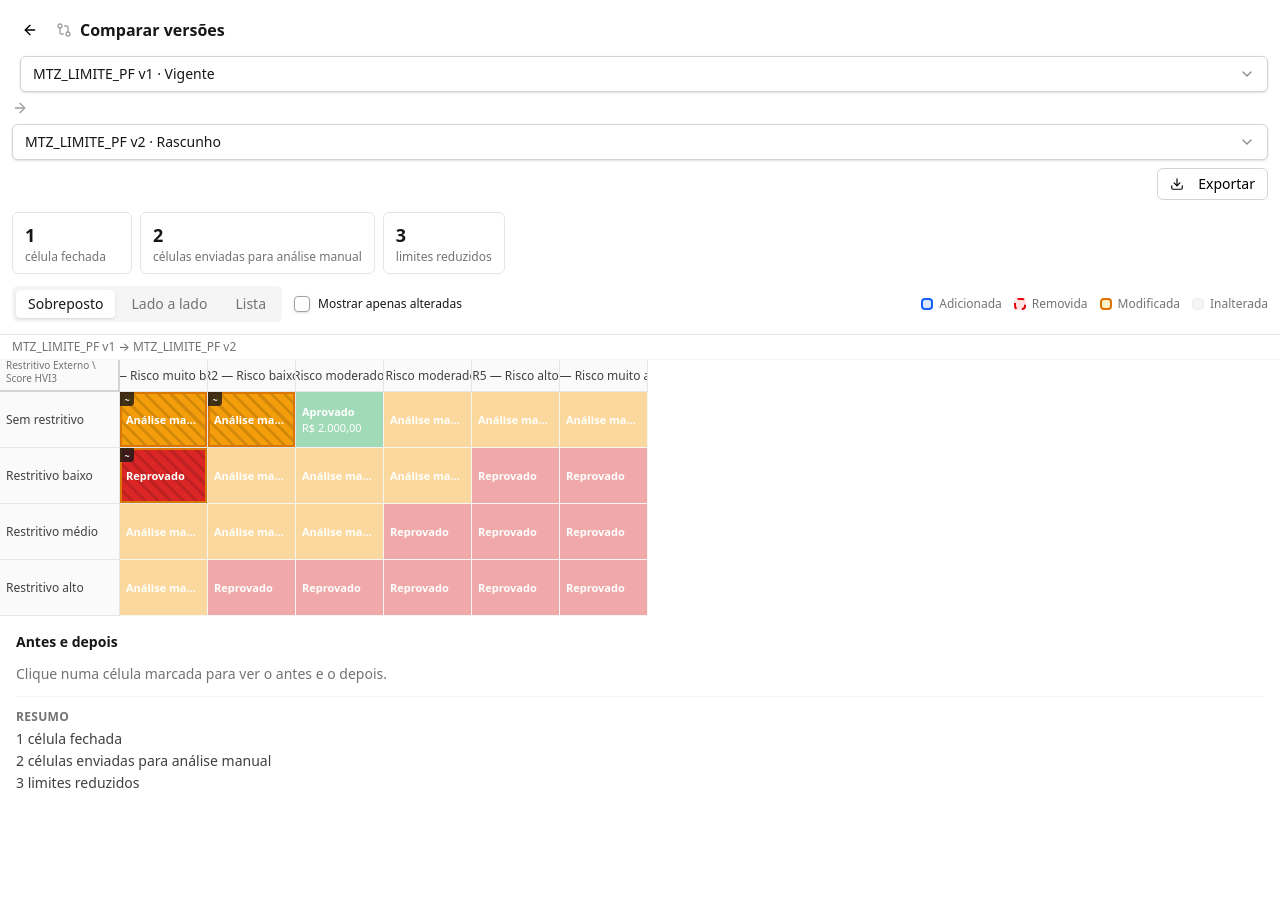
Test case: CompareScreen › modo lista traz uma linha por mudança, filtrável por tipo
This screenshot has width=1280, height=900.
Click the tab "Lista" at (251, 304), box [223,290,278,318]
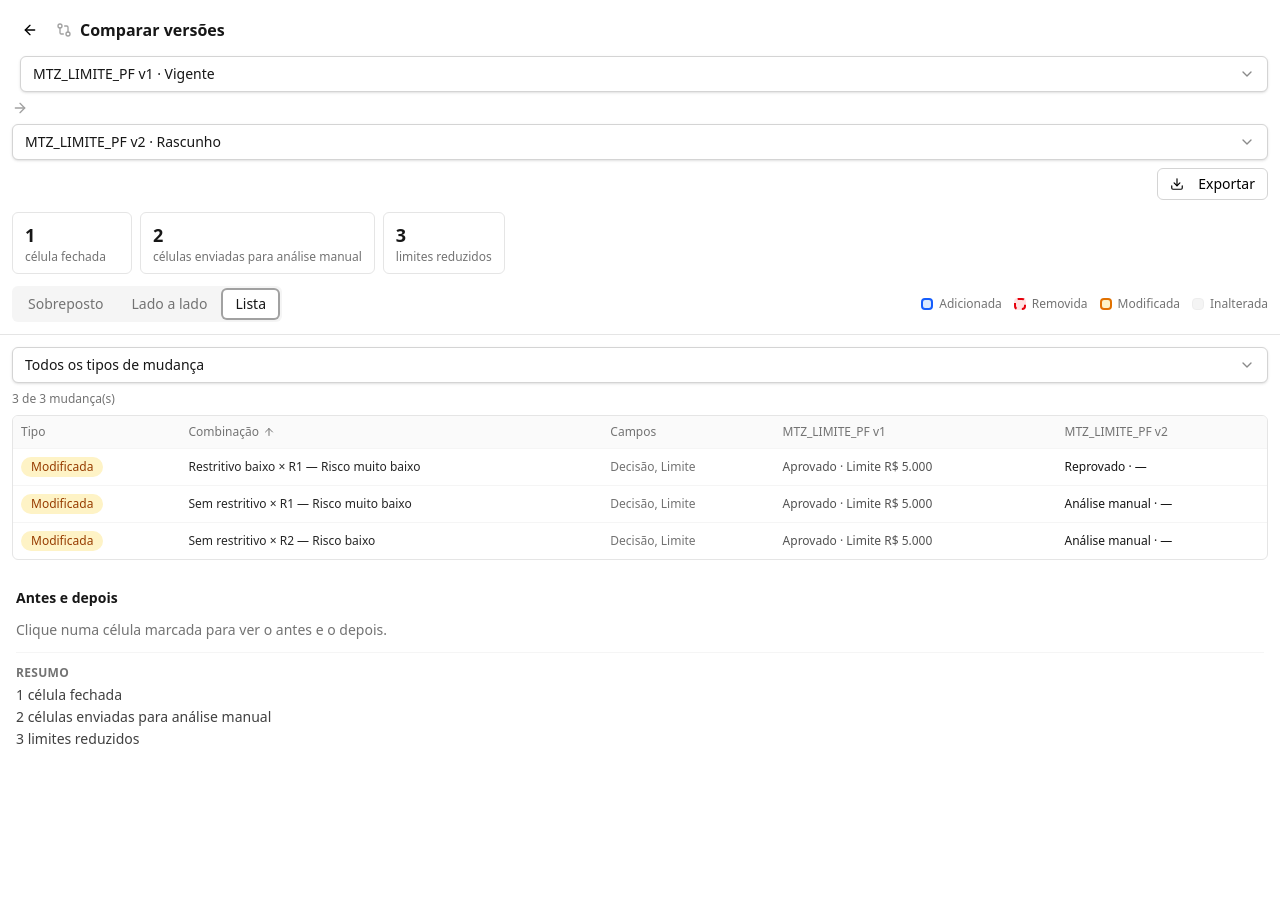
Check: the number of rows with test id "diff-list-row" is 3, box [13,448,1267,486]; [13,486,1267,522]; [13,522,1267,559]
Check: the text with test id "diff-list-count" shows "3 de 3", box [12,391,115,407]
Check: the text "Restritivo baixo × R1 — Risco muito baixo" is shown, box [180,448,602,486]
// Nenhuma das 3 é adicionada: filtrar por "Adicionadas" esvazia a tabela.
Click the dropdown named "Filtrar por tipo de mudança" at (115, 364), box [12,347,1268,383]
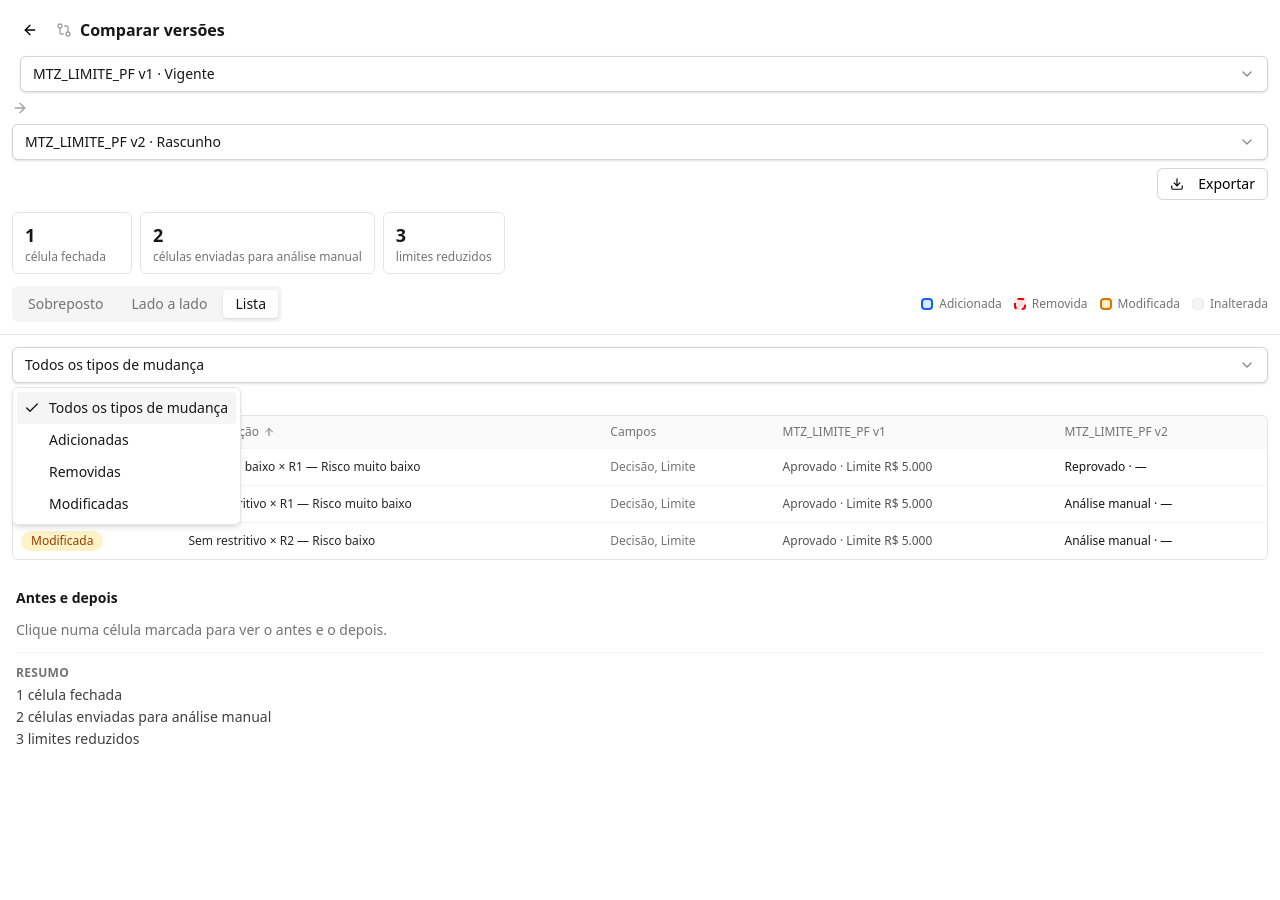
Click the option "Adicionadas" at (89, 440), box [49,430,129,449]
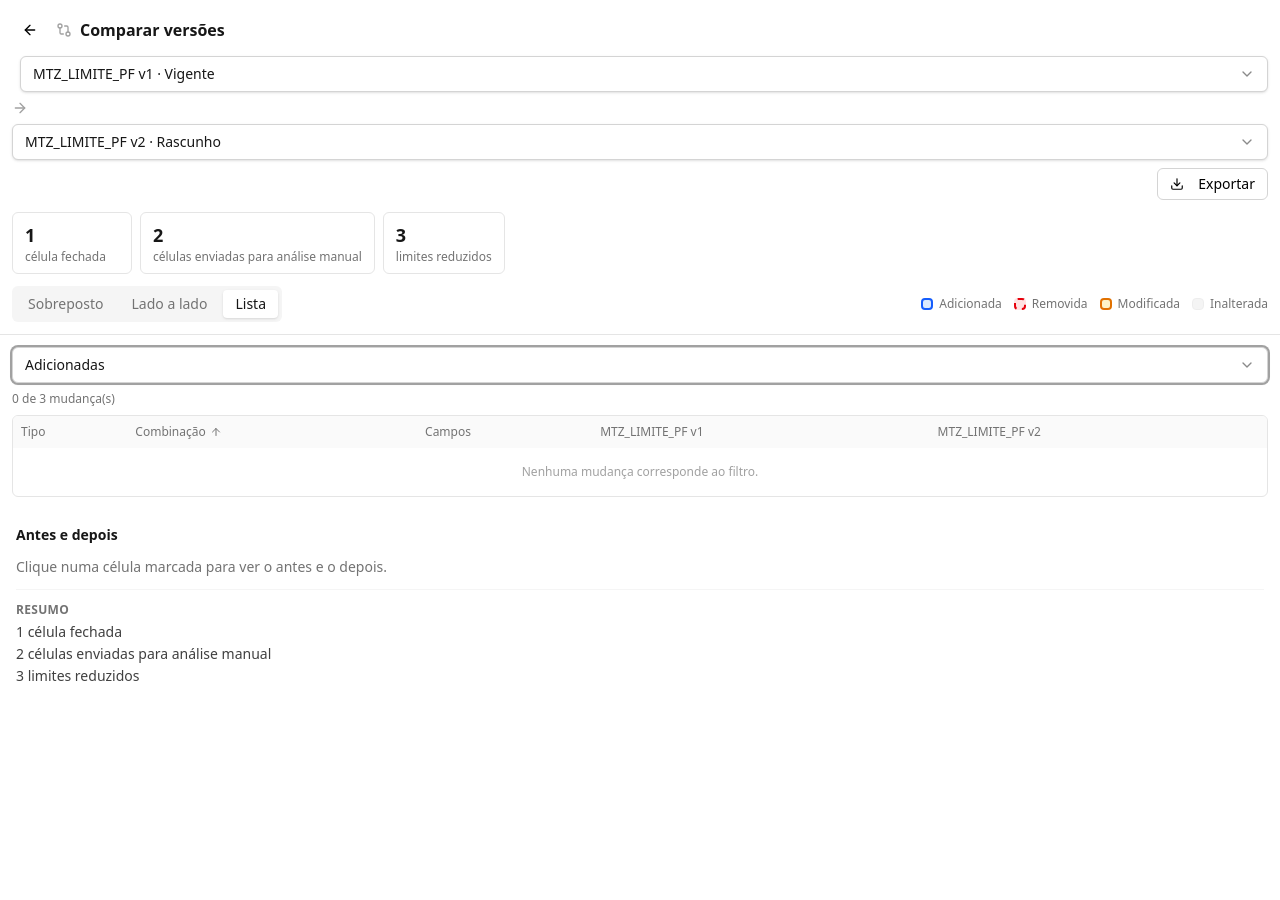
Check: no rows with test id "diff-list-row" are shown
Check: the text "Nenhuma mudança corresponde ao filtro." is shown, box [13,448,1267,496]
